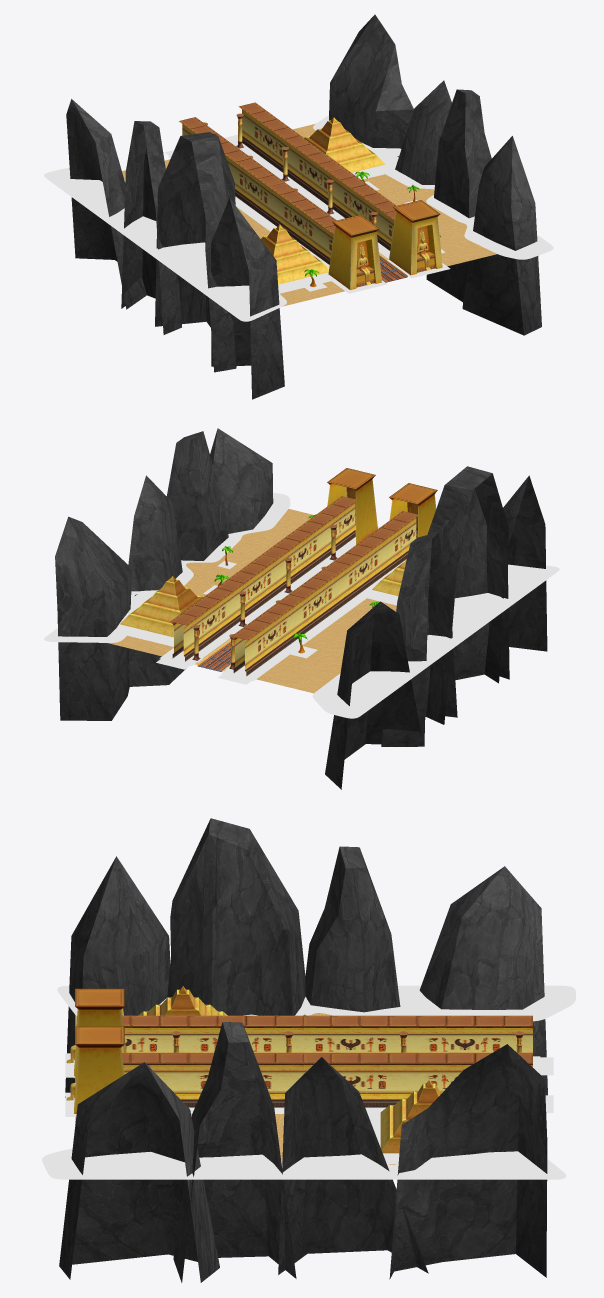
Rendered from Egypt_02.fbx.
3 views of the same model, one above another, from view 1: azimuth 30°, elevation 25°; view 2: azimuth 150°, elevation 25°; view 3: azimuth 270°, elevation 25° (orthographic). The views are drawn at different scales.
Visible parts, largest first — view 1: Egypt_02; view 2: Egypt_02; view 3: Egypt_02.
Boxes of the visible parts, bbox=[...] form: Egypt_02: bbox=[44, 14, 553, 399]; Egypt_02: bbox=[44, 428, 559, 789]; Egypt_02: bbox=[42, 818, 575, 1282].
Bounding box in the file's own units: 22617 × 13384 × 25170.
